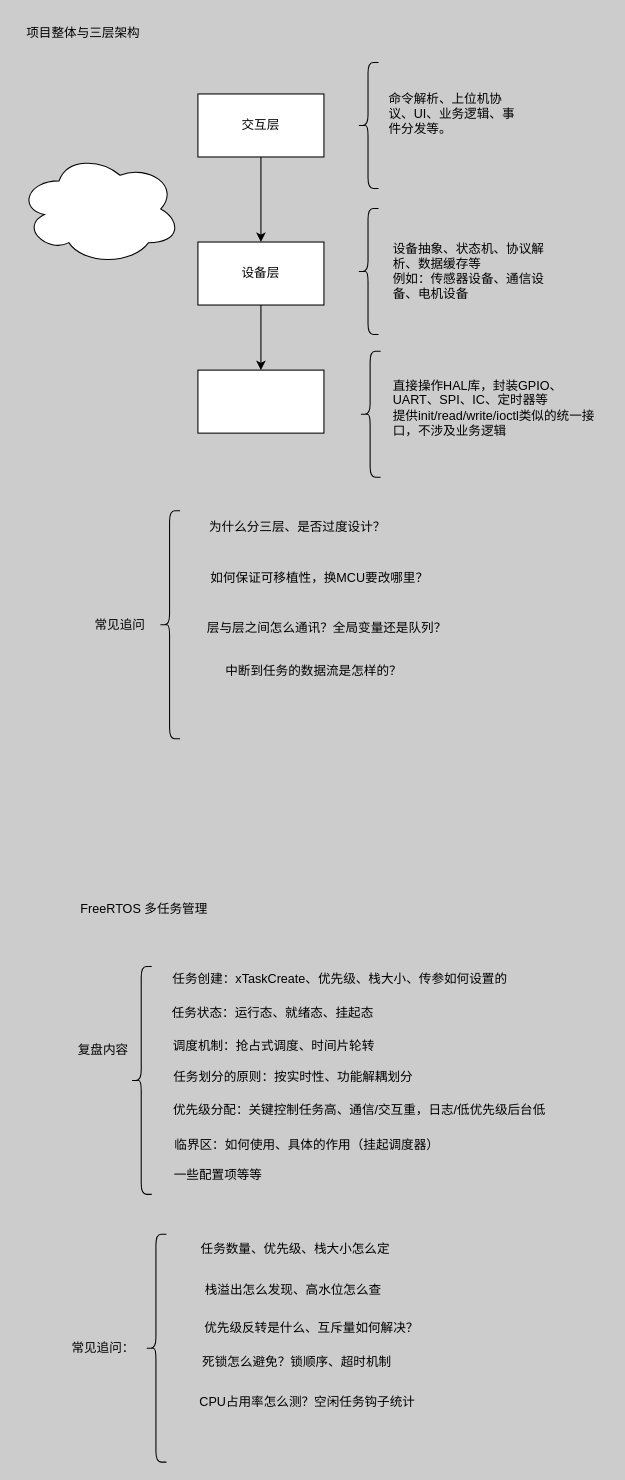
This 625x1480 diagram has some shape labels left out. Each missing label, with the centre of its shape:
"依赖方向： 驱动层不反向依赖上层。通过接口、回调、消息队列解耦。" goes at (99,208).
"驱动层" goes at (260,401).
